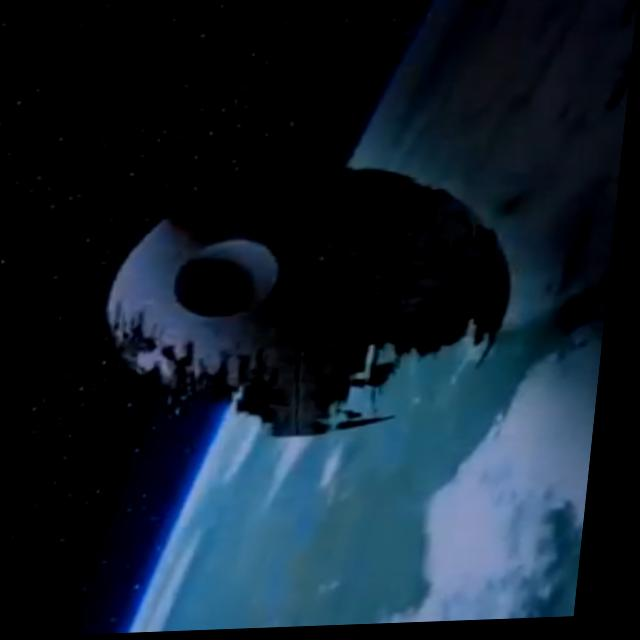deathStar: (99, 162, 528, 439)
